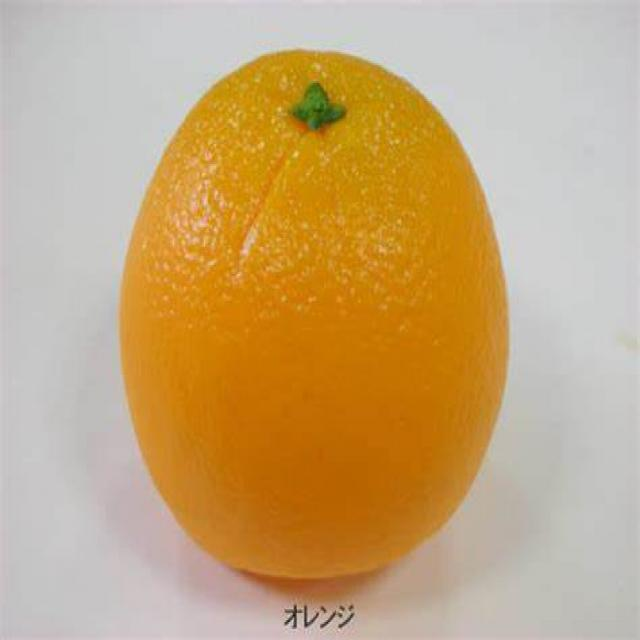Orange: (119, 48, 512, 581)
